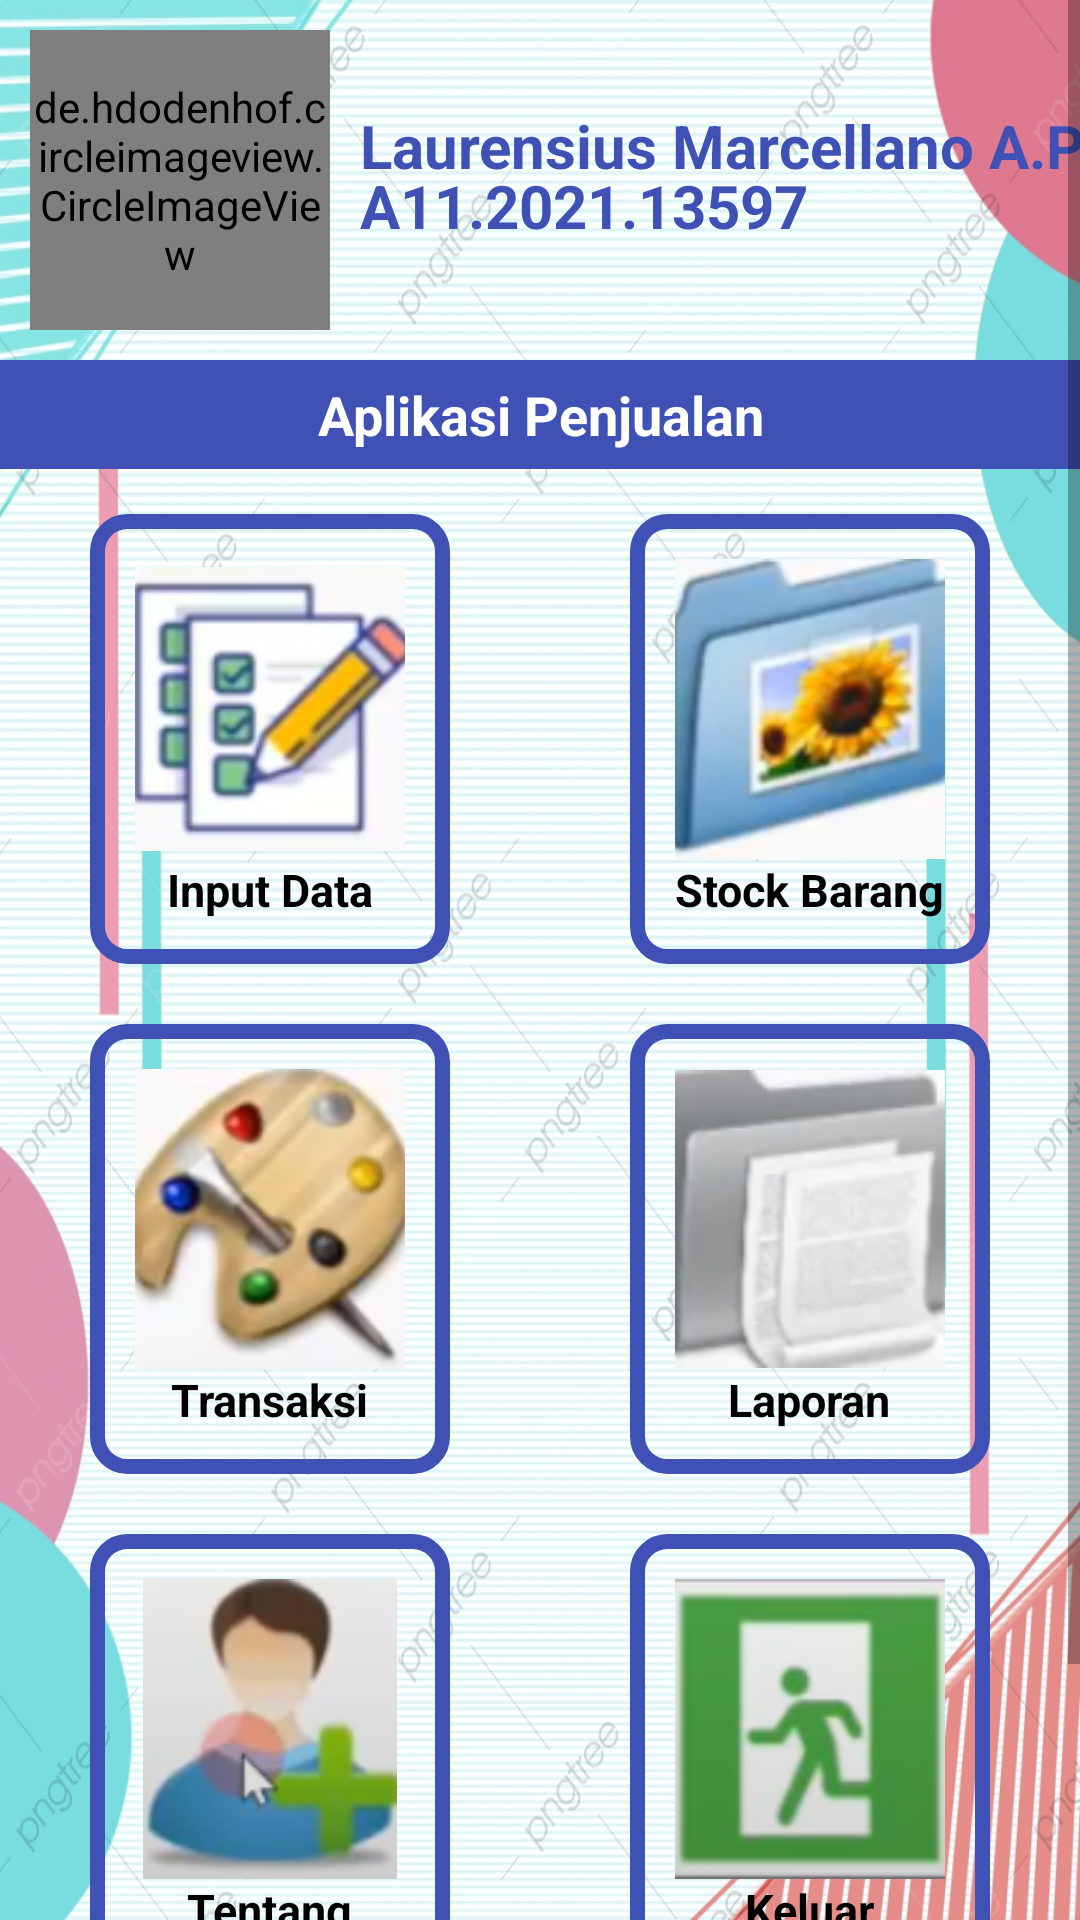

Screen size 1080w x 1920h. Icon name, then its center in pixels as (x=x, y=y):
album: (x=810, y=709)
paint: (x=270, y=1216)
tulis: (x=270, y=709)
